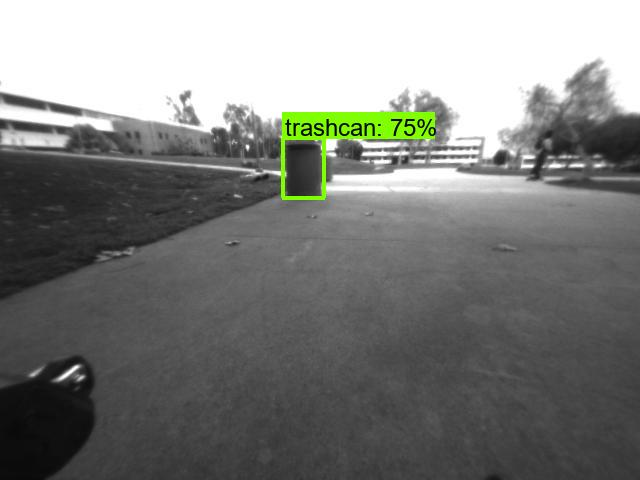trashcan: (285, 145, 322, 198)
